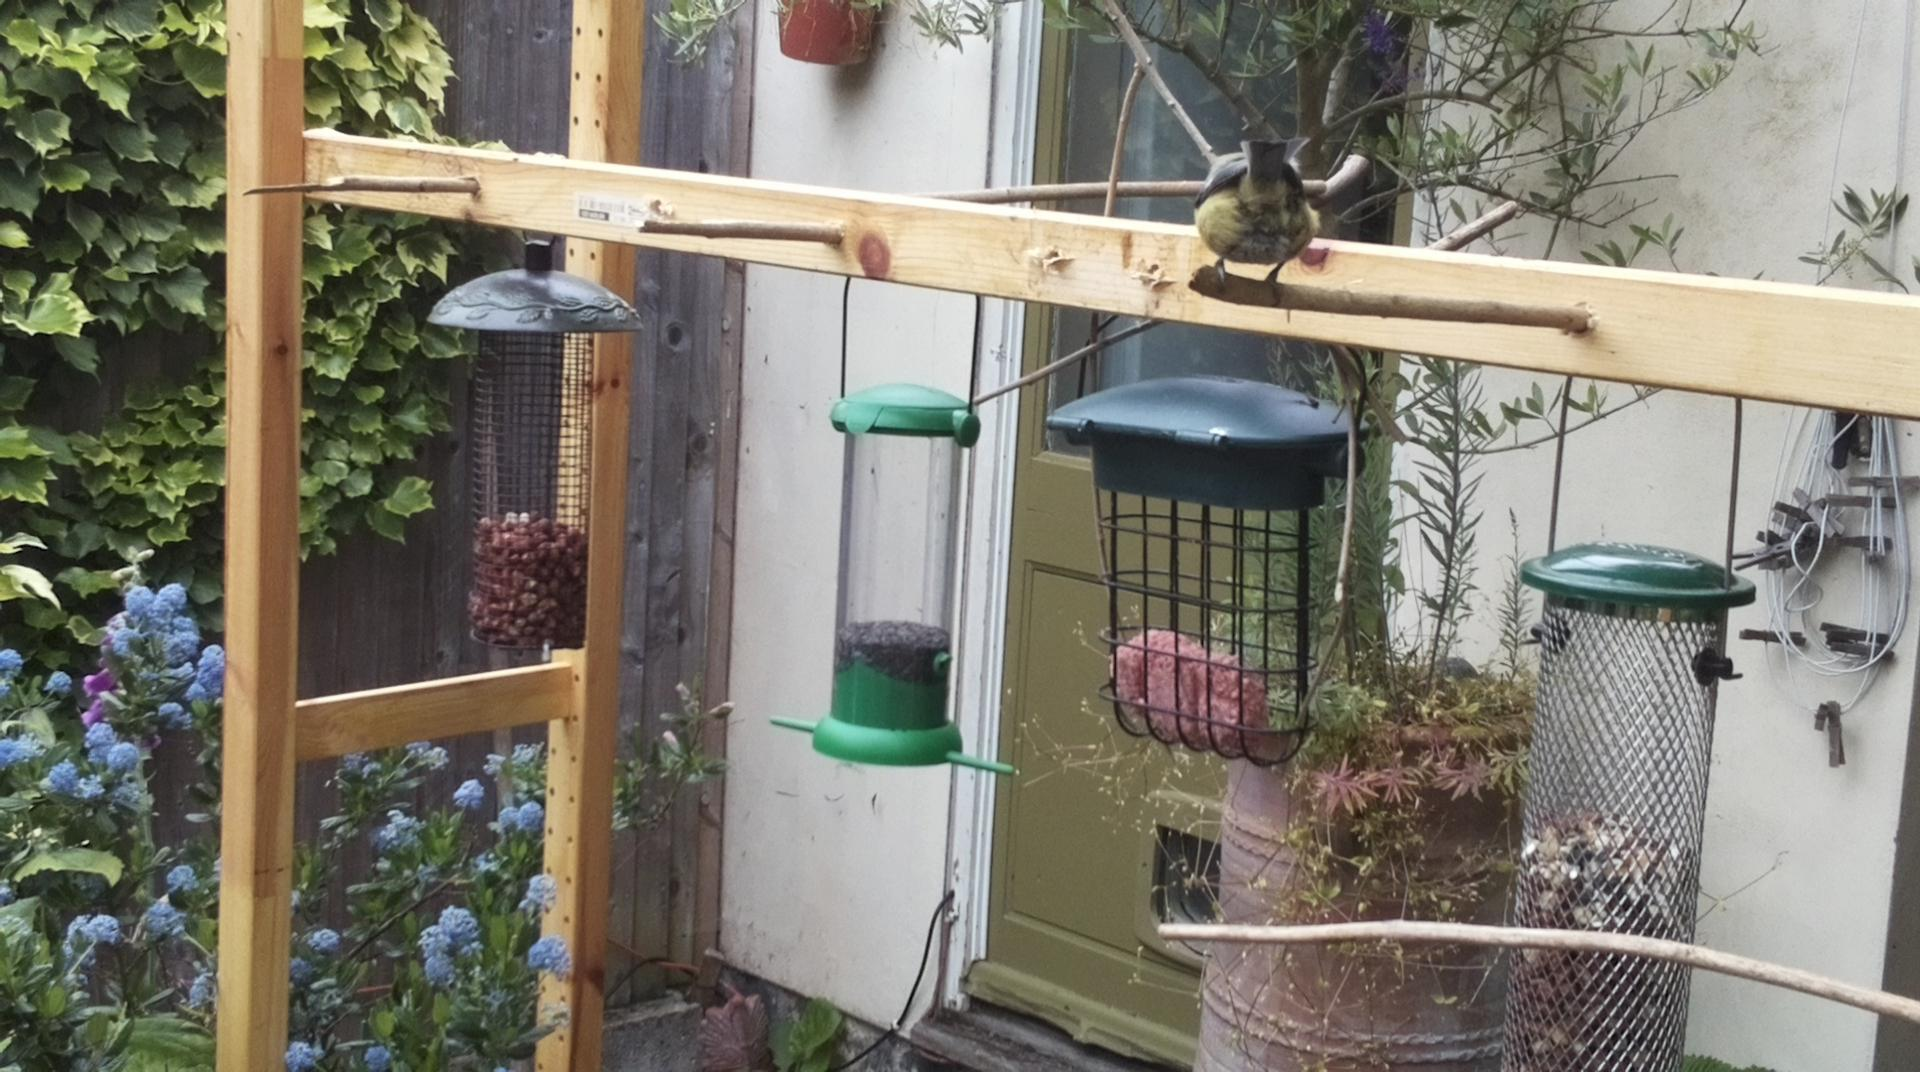blue tit: (1193, 140, 1320, 307)
